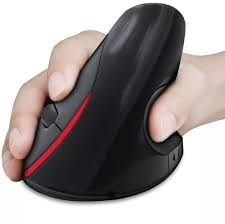mouse: (16, 4, 190, 199)
